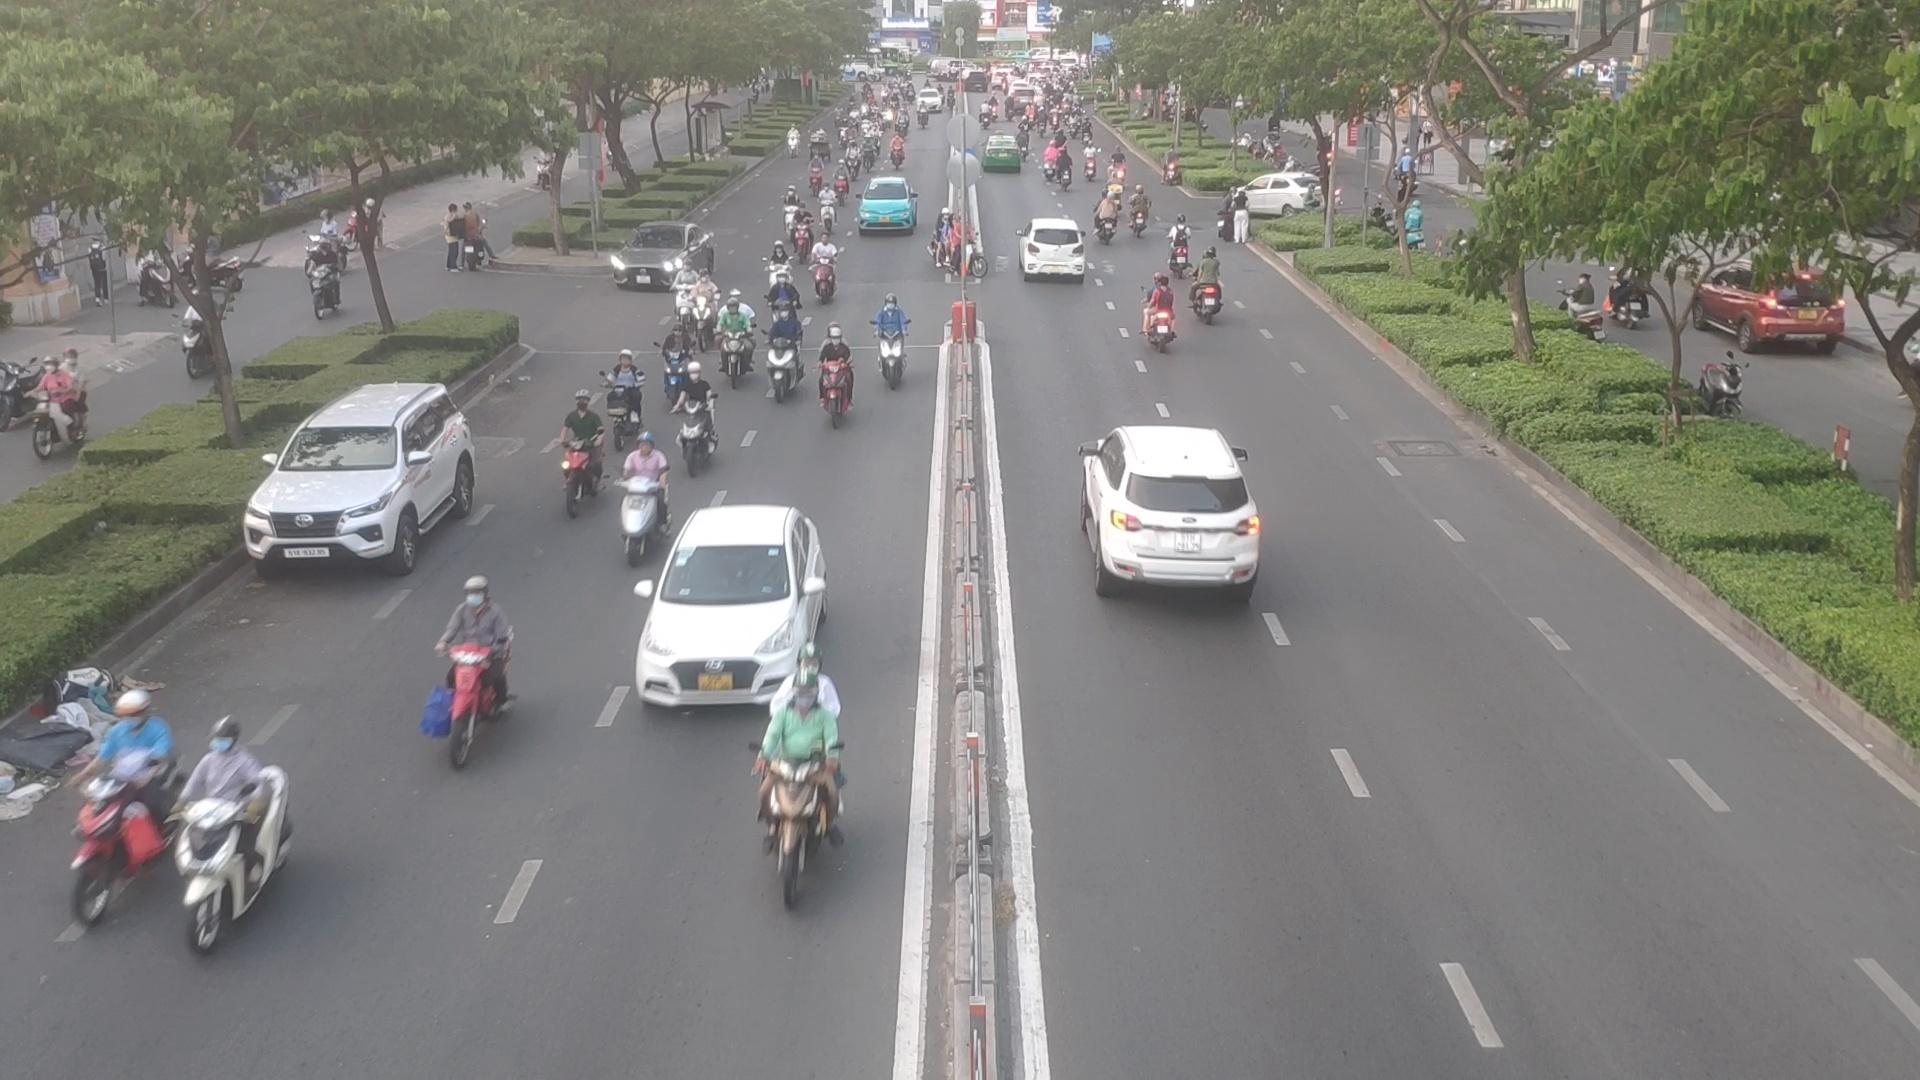car: (243, 382, 491, 574), (629, 509, 833, 715), (1083, 429, 1261, 589), (612, 224, 717, 293), (1019, 220, 1095, 281), (1232, 173, 1323, 218), (858, 179, 922, 236)
motorbike: (142, 725, 313, 938), (740, 708, 861, 910), (73, 703, 171, 913), (425, 646, 521, 771), (615, 444, 673, 550), (543, 382, 589, 502), (719, 276, 761, 386), (818, 328, 860, 438), (678, 351, 720, 459), (869, 294, 910, 392), (596, 352, 644, 429), (1142, 277, 1182, 368), (951, 206, 989, 291), (691, 276, 729, 349), (764, 245, 806, 305), (767, 303, 793, 401), (812, 237, 844, 309), (662, 251, 694, 315), (667, 323, 694, 400), (1166, 222, 1199, 281), (1195, 240, 1218, 319), (1093, 193, 1124, 243), (814, 185, 843, 236), (928, 214, 956, 266), (786, 203, 811, 255), (778, 181, 804, 227), (1131, 193, 1149, 241)
